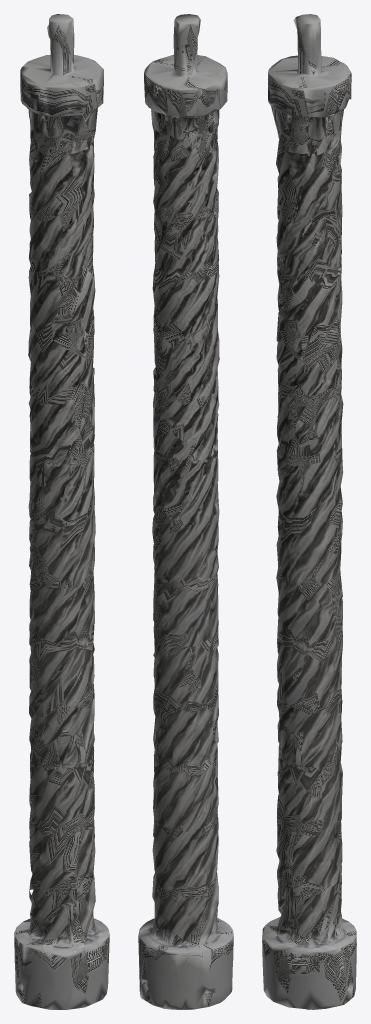
Rendered from steel_rope_01.glb.
3 renders of one model, left to right at view 1: azimuth 30°, elevation 25°; view 2: azimuth 210°, elevation 25°; view 3: azimuth 330°, elevation 25°, orthographic.
Visible parts, largest first — view 1: tripo_node_c1d9264e-4af6-4855-9f98-73ac628aeee8; view 2: tripo_node_c1d9264e-4af6-4855-9f98-73ac628aeee8; view 3: tripo_node_c1d9264e-4af6-4855-9f98-73ac628aeee8.
Boxes of the visible parts, x1,y1,x2,y2 form: tripo_node_c1d9264e-4af6-4855-9f98-73ac628aeee8: (14,14,109,1009); tripo_node_c1d9264e-4af6-4855-9f98-73ac628aeee8: (138,14,233,1009); tripo_node_c1d9264e-4af6-4855-9f98-73ac628aeee8: (262,14,356,1009).
Size of the model in its own units: 0.0876 by 0.9812 by 0.0852.
Materials: 1 (1 with a texture image).
